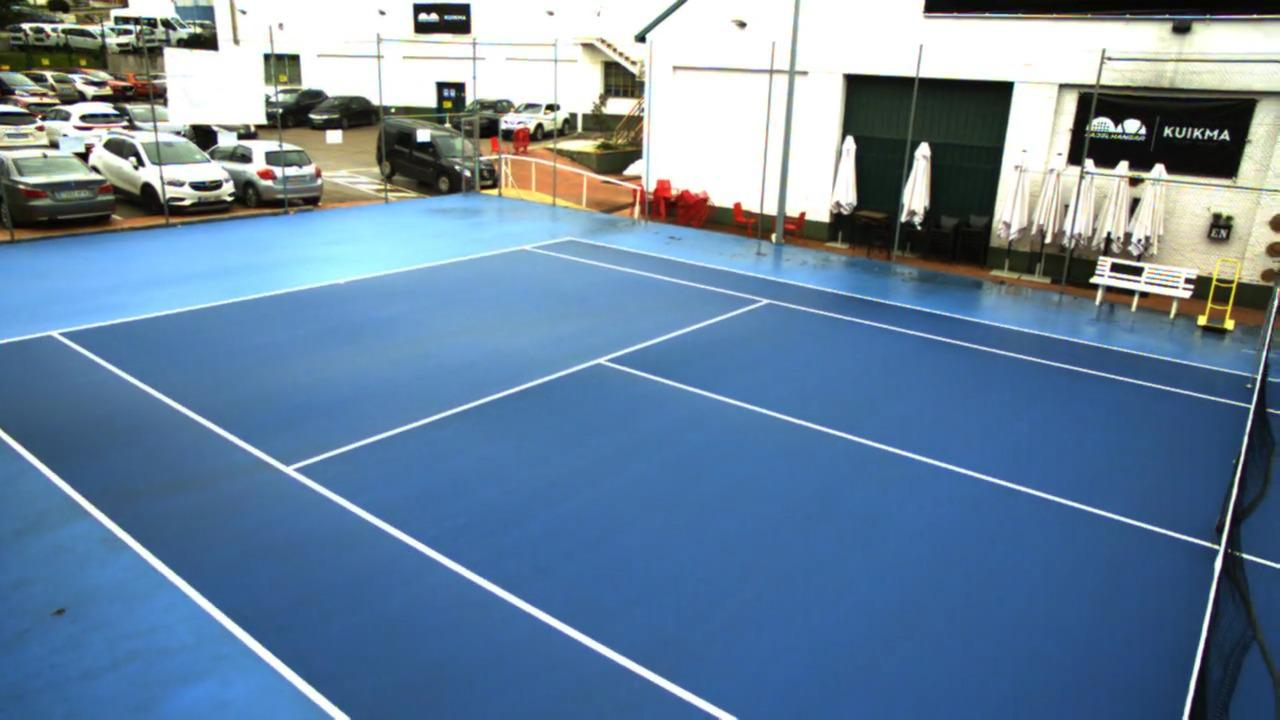cancha_tenis: (52, 246, 1280, 718)
point_f1: (41, 320, 69, 344)
point_f2: (517, 235, 540, 257)
point_fc1: (333, 273, 349, 288)
point_i1: (272, 455, 307, 483)
point_i2: (748, 290, 779, 312)
point_ic1: (583, 346, 617, 371)
